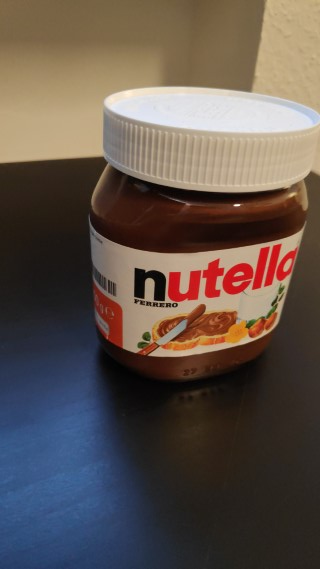nutella: (87, 84, 320, 386)
